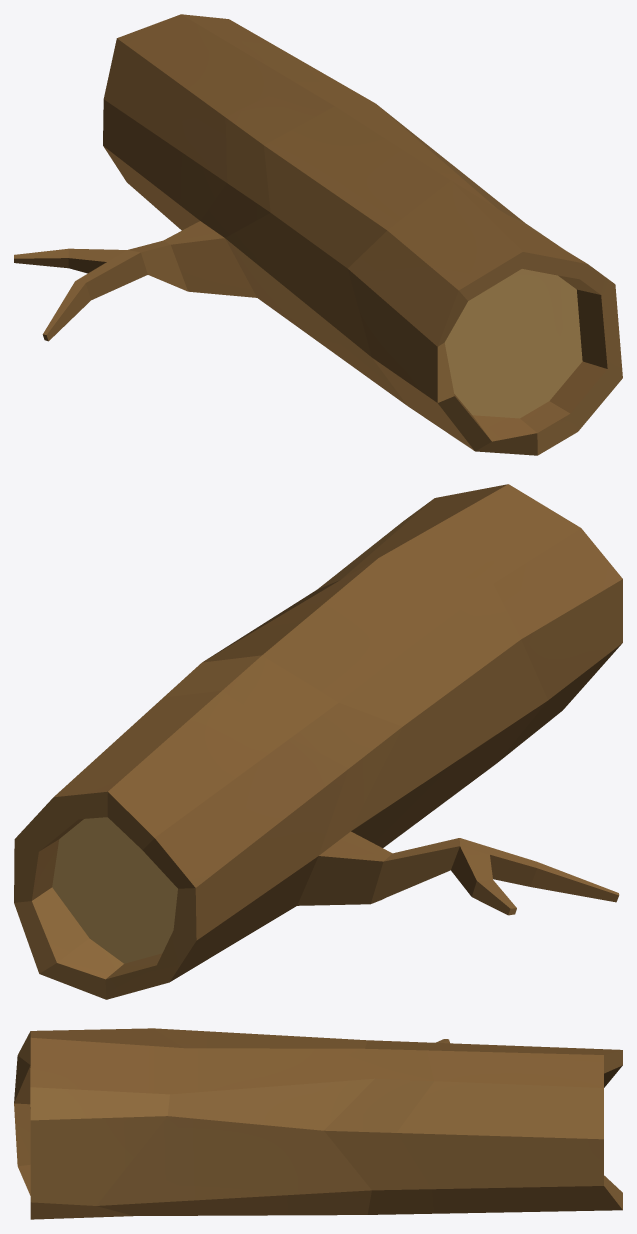
The model's file is log_3.glb.
3 renders of one model, top to bottom at view 1: azimuth 30°, elevation 25°; view 2: azimuth 150°, elevation 25°; view 3: azimuth 270°, elevation 25°, orthographic. The views are drawn at different scales.
Parts seen in each view (by area): view 1: log_3; view 2: log_3; view 3: log_3.
Part boxes in pixels (x1,y1,x2,y2): log_3: (14, 14, 622, 455); log_3: (14, 484, 622, 999); log_3: (14, 1028, 622, 1219).
Size of the model in its own units: 0.3231 by 0.165 by 0.5309.
Materials: 1 (1 with a texture image).
